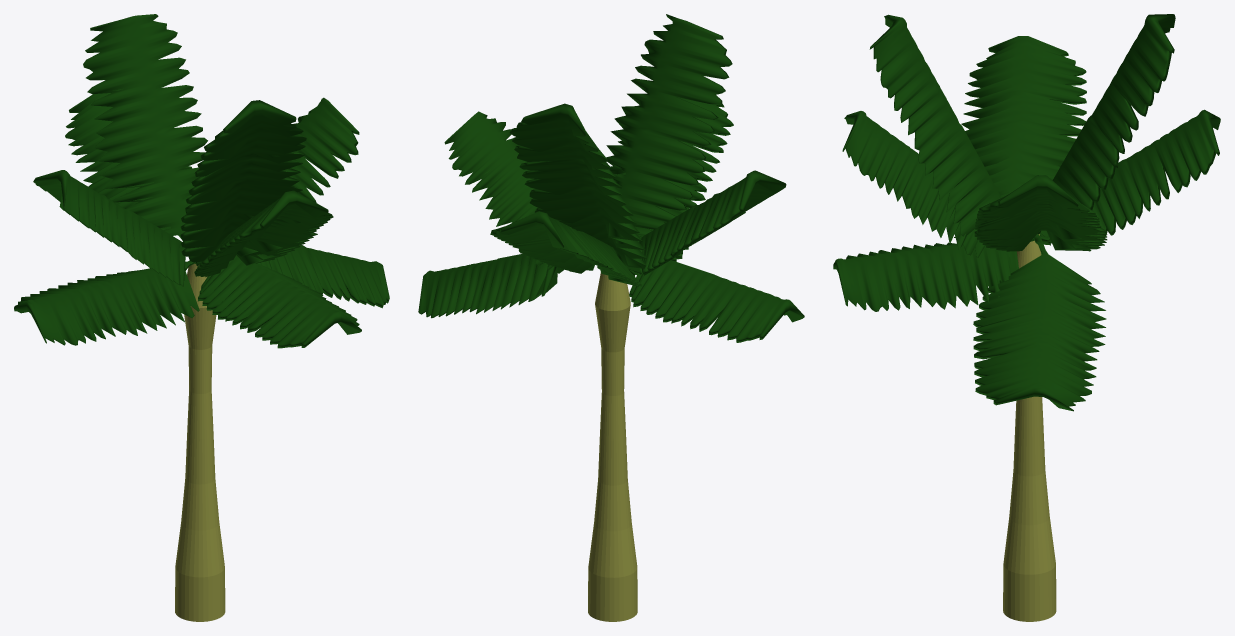
Rendered from platanos.glb.
The picture shows the model from 3 angles, left to right: view 1: azimuth 30°, elevation 25°; view 2: azimuth 150°, elevation 25°; view 3: azimuth 270°, elevation 25°; orthographic projection. The views are drawn at different scales.
Visible parts, largest first — view 1: Cube.004, Cube.005, Cylinder, Cube.006, Cube.007, Cube.001, Cube, Cube.008, Cube.003, Cube.002; view 2: Cube.005, Cylinder, Cube.004, Cube.006, Cube.008, Cube.003, Cube.001, Cube.002, Cube; view 3: Cube.008, Cube.001, Cube.005, Cylinder, Cube.007, Cube.004, Cube.002, Cube.003, Cube.
Boxes of the visible parts, left/top/right/bottom form: Cube.004: left=83, top=14, right=207, bottom=241; Cube.005: left=180, top=100, right=306, bottom=266; Cylinder: left=175, top=263, right=225, bottom=621; Cube.006: left=14, top=260, right=199, bottom=345; Cube.007: left=198, top=255, right=361, bottom=348; Cube.001: left=33, top=170, right=195, bottom=286; Cube: left=194, top=190, right=333, bottom=277; Cube.008: left=258, top=245, right=389, bottom=308; Cube.003: left=289, top=97, right=359, bottom=202; Cube.002: left=65, top=93, right=191, bottom=235; Cube.005: left=606, top=14, right=732, bottom=235; Cylinder: left=588, top=272, right=637, bottom=621; Cube.004: left=509, top=103, right=646, bottom=274; Cube.006: left=629, top=258, right=804, bottom=342; Cube.008: left=418, top=254, right=563, bottom=318; Cube.003: left=444, top=111, right=553, bottom=269; Cube.001: left=639, top=170, right=786, bottom=275; Cube.002: left=490, top=211, right=641, bottom=286; Cube: left=607, top=97, right=733, bottom=238; Cube.008: left=973, top=234, right=1106, bottom=411; Cube.001: left=961, top=36, right=1086, bottom=197; Cube.005: left=869, top=14, right=1001, bottom=236; Cylinder: left=1003, top=234, right=1056, bottom=621; Cube.007: left=833, top=236, right=1050, bottom=311; Cube.004: left=1052, top=14, right=1175, bottom=209; Cube.002: left=1037, top=109, right=1220, bottom=235; Cube.003: left=974, top=175, right=1107, bottom=251; Cube: left=842, top=111, right=985, bottom=257.
Bounding box in the file's own units: 6.94 × 10.27 × 6.13.
